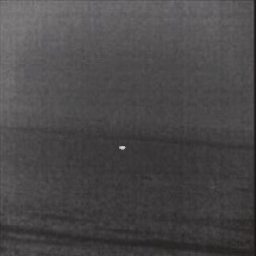Target: (117, 144, 126, 151)
